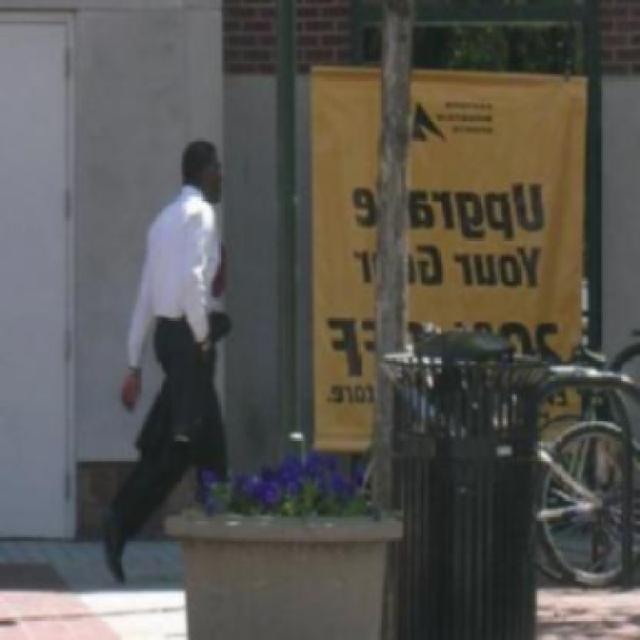Person: (93, 136, 238, 590)
